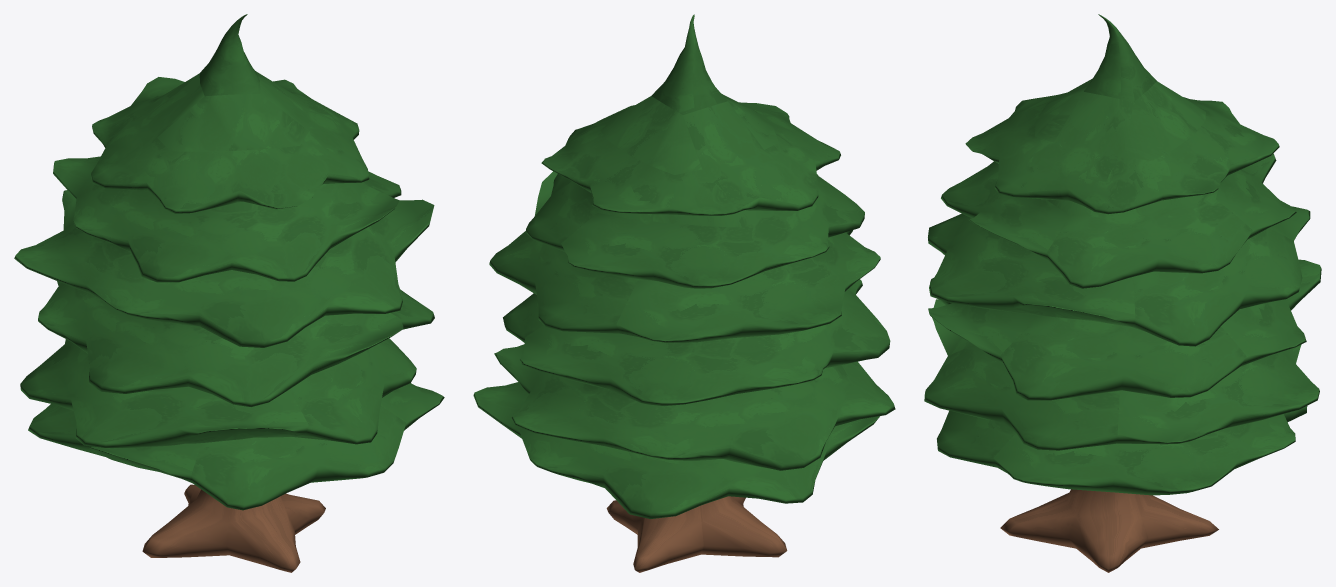
File: Tree3.fbx
The picture shows the model from 3 angles, left to right: view 1: azimuth 30°, elevation 25°; view 2: azimuth 150°, elevation 25°; view 3: azimuth 270°, elevation 25°; orthographic projection.
Visible parts, largest first — view 1: Tree3; view 2: Tree3; view 3: Tree3.
Part boxes in pixels (box(x1,y1,x2,y2)): Tree3: box(14, 14, 444, 572); Tree3: box(473, 14, 895, 572); Tree3: box(924, 14, 1321, 572).
Size of the model in its own units: 19.25 by 26.85 by 18.44.
